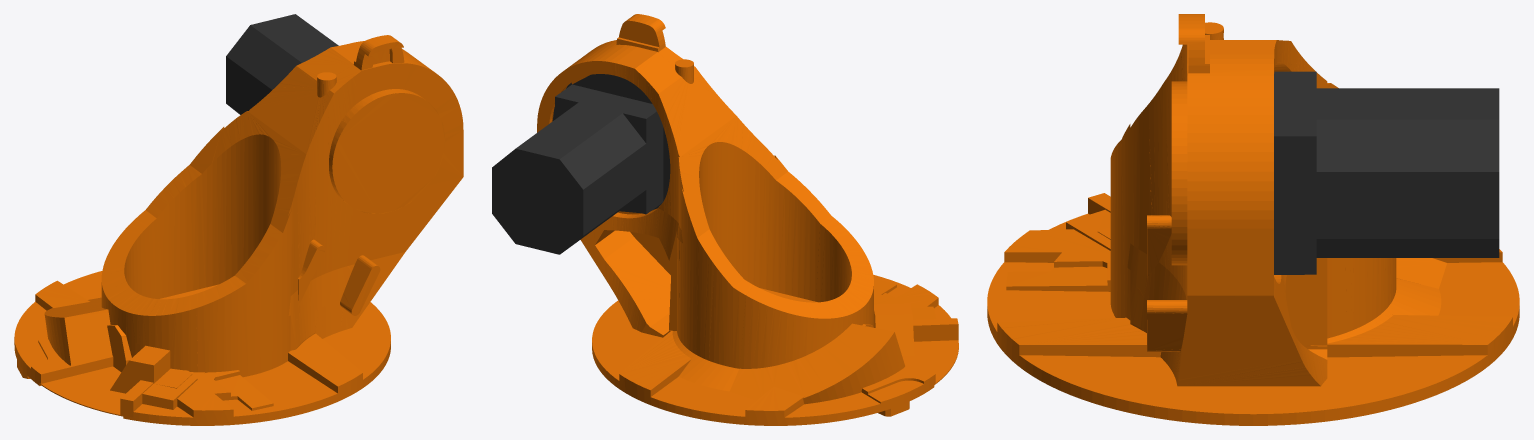
The model's file is Eslabon1.obj.
3 renders of one model, left to right at view 1: azimuth 30°, elevation 25°; view 2: azimuth 150°, elevation 25°; view 3: azimuth 270°, elevation 25°, orthographic. The views are drawn at different scales.
Visible parts, largest first — view 1: default; view 2: default; view 3: default.
Part boxes in pixels (x1,y1,x2,y2): default: (14,14,463,425); default: (492,14,958,425); default: (987,14,1519,425).
Size of the model in its own units: 0.663 by 0.4619 by 0.5401.
